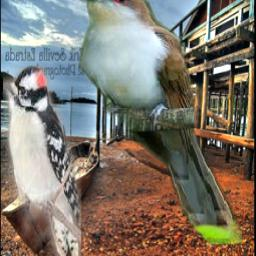Cuckoo: (71, 0, 242, 245)
Woodpecker: (3, 67, 81, 256)
